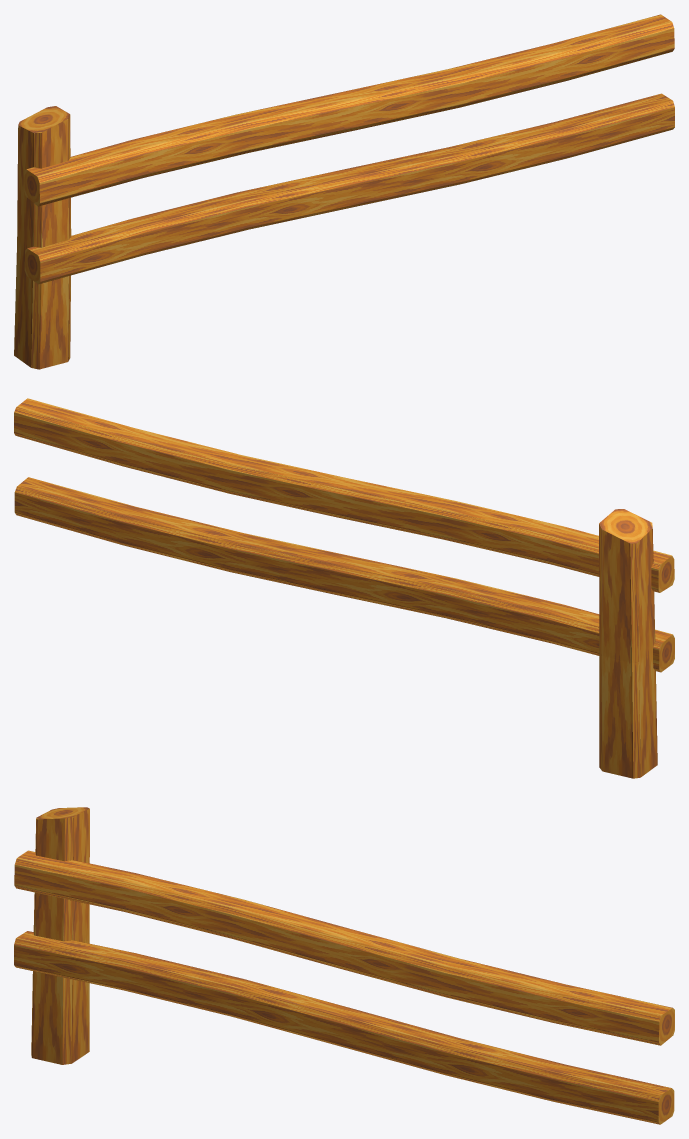
File: fence_w_300.glb
3 renders of one model, top to bottom at view 1: azimuth 30°, elevation 25°; view 2: azimuth 150°, elevation 25°; view 3: azimuth 330°, elevation 25°, orthographic.
Parts seen in each view (by area): view 1: fence_w_300; view 2: fence_w_300; view 3: fence_w_300.
Part boxes in pixels (x1,y1,x2,y2): fence_w_300: (14,14,674,369); fence_w_300: (14,398,674,778); fence_w_300: (14,807,674,1124).
Bounding box in the file's own units: 3.24 × 1.19 × 0.2931.
Materials: 1 (1 with a texture image).
